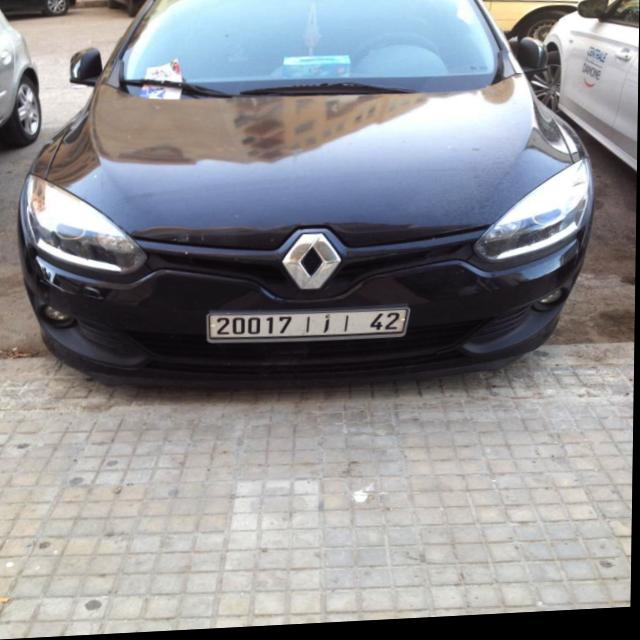License-Plate: (208, 311, 411, 346)
